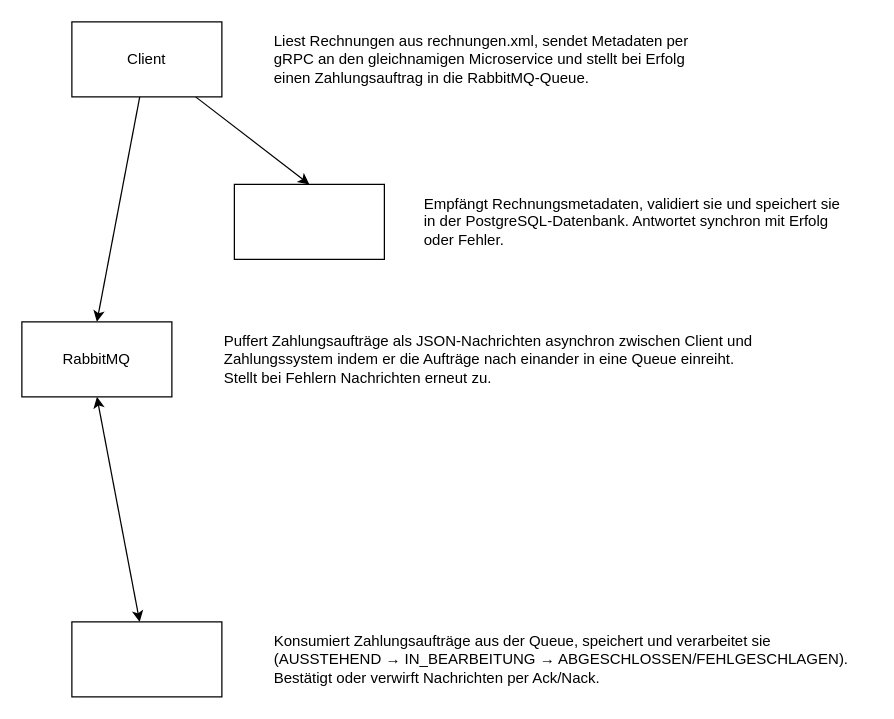
This 894x719 diagram has some shape labels left out. Here are the shapes that lost their labels. From the top down, the centre of each, then its label:
At [308,221]: "gRPC".
At [146,659]: "Zahlungssystem".
